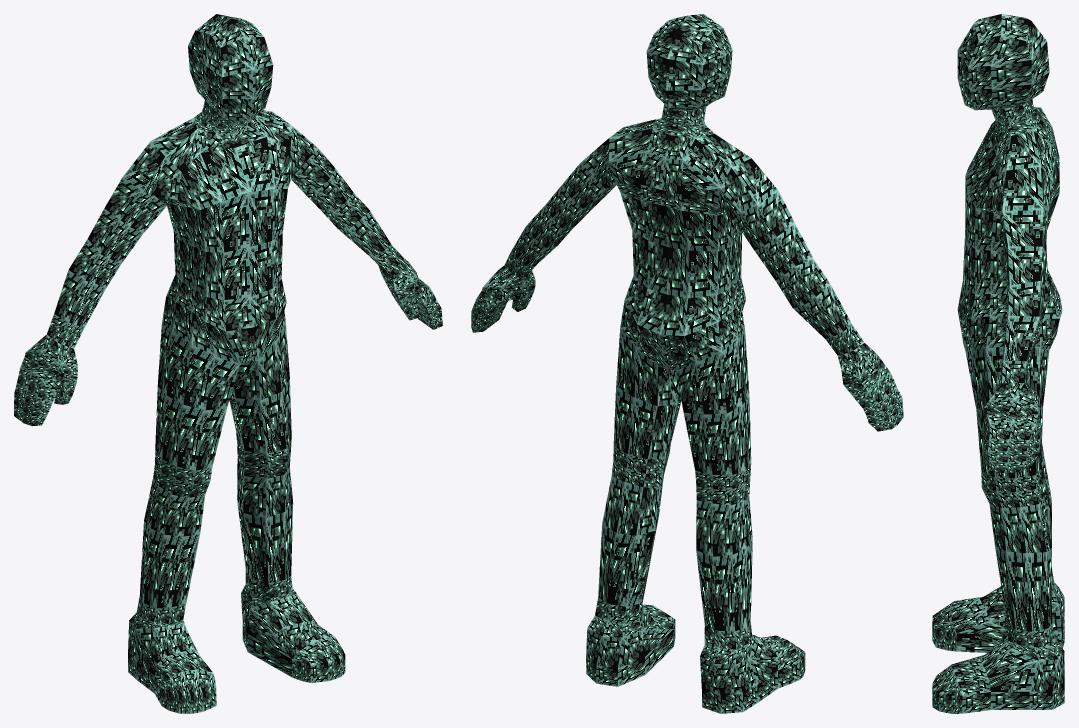
The picture shows the model from 3 angles, left to right: view 1: azimuth 30°, elevation 25°; view 2: azimuth 150°, elevation 25°; view 3: azimuth 270°, elevation 25°; orthographic projection.
Visible parts, largest first — view 1: base; view 2: base; view 3: base.
Boxes of the visible parts, x1,y1,x2,y2 form: base: (14, 14, 442, 713); base: (471, 14, 903, 713); base: (932, 14, 1064, 713).
Bounding box in the file's own units: 1.26 × 1.9 × 0.3464.
Materials: 1 (1 with a texture image).
